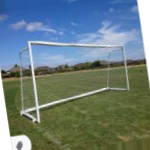goals: (16, 39, 132, 124)
